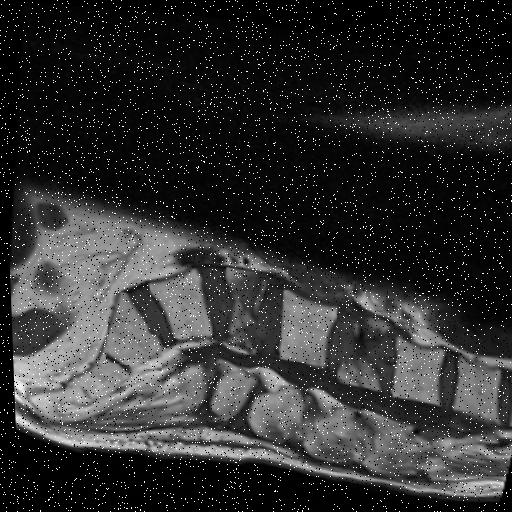L1: (389, 331, 441, 398)
L2: (333, 312, 386, 384)
L3: (276, 286, 333, 361)
L4: (223, 263, 263, 345)
L5: (146, 266, 209, 337)
S1: (102, 291, 158, 365)
